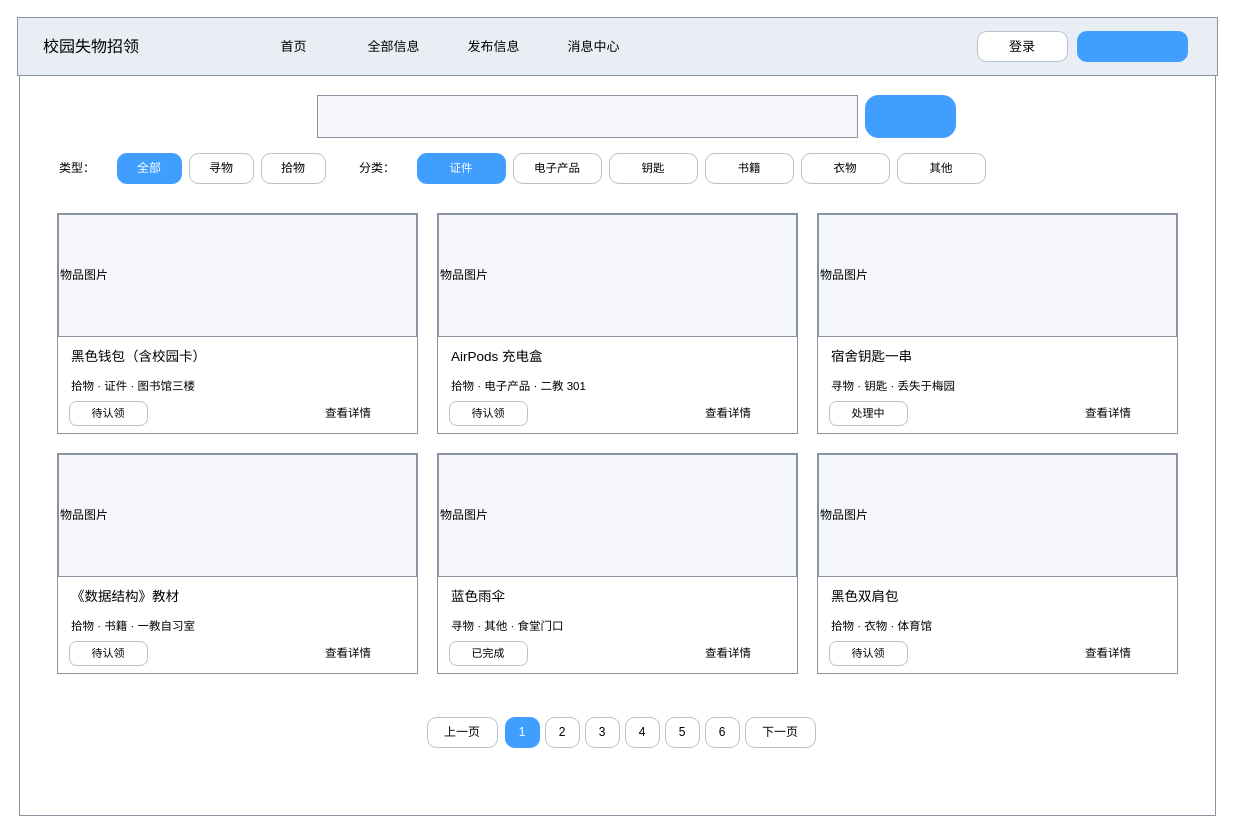
Image size: 1235x833. Some labels were removed from this diagram. The shapes that lost their labels are listed below. From the top down, each one's box as (x1, y1, x2, y2) in pixels, then its label:
(1076, 30, 1188, 62): 注册
(316, 94, 858, 138): 搜索失物标题或描述关键词…
(864, 94, 956, 138): 搜索
